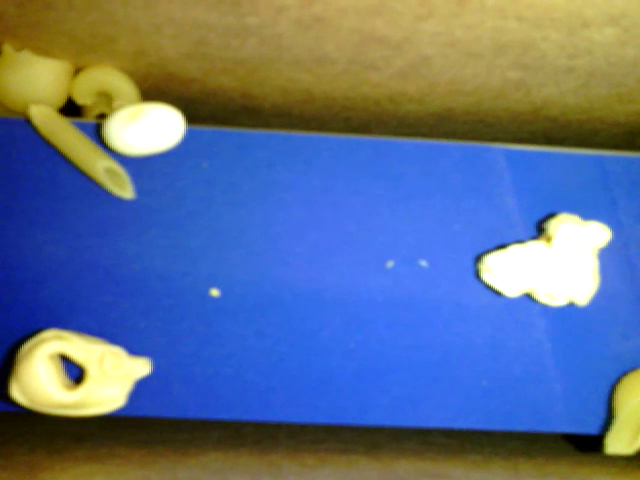elbow: (69, 66, 141, 105)
penne: (28, 105, 136, 199)
shell: (1, 44, 73, 111), (603, 368, 639, 455), (84, 95, 113, 119)
tortellini: (8, 328, 153, 417)
